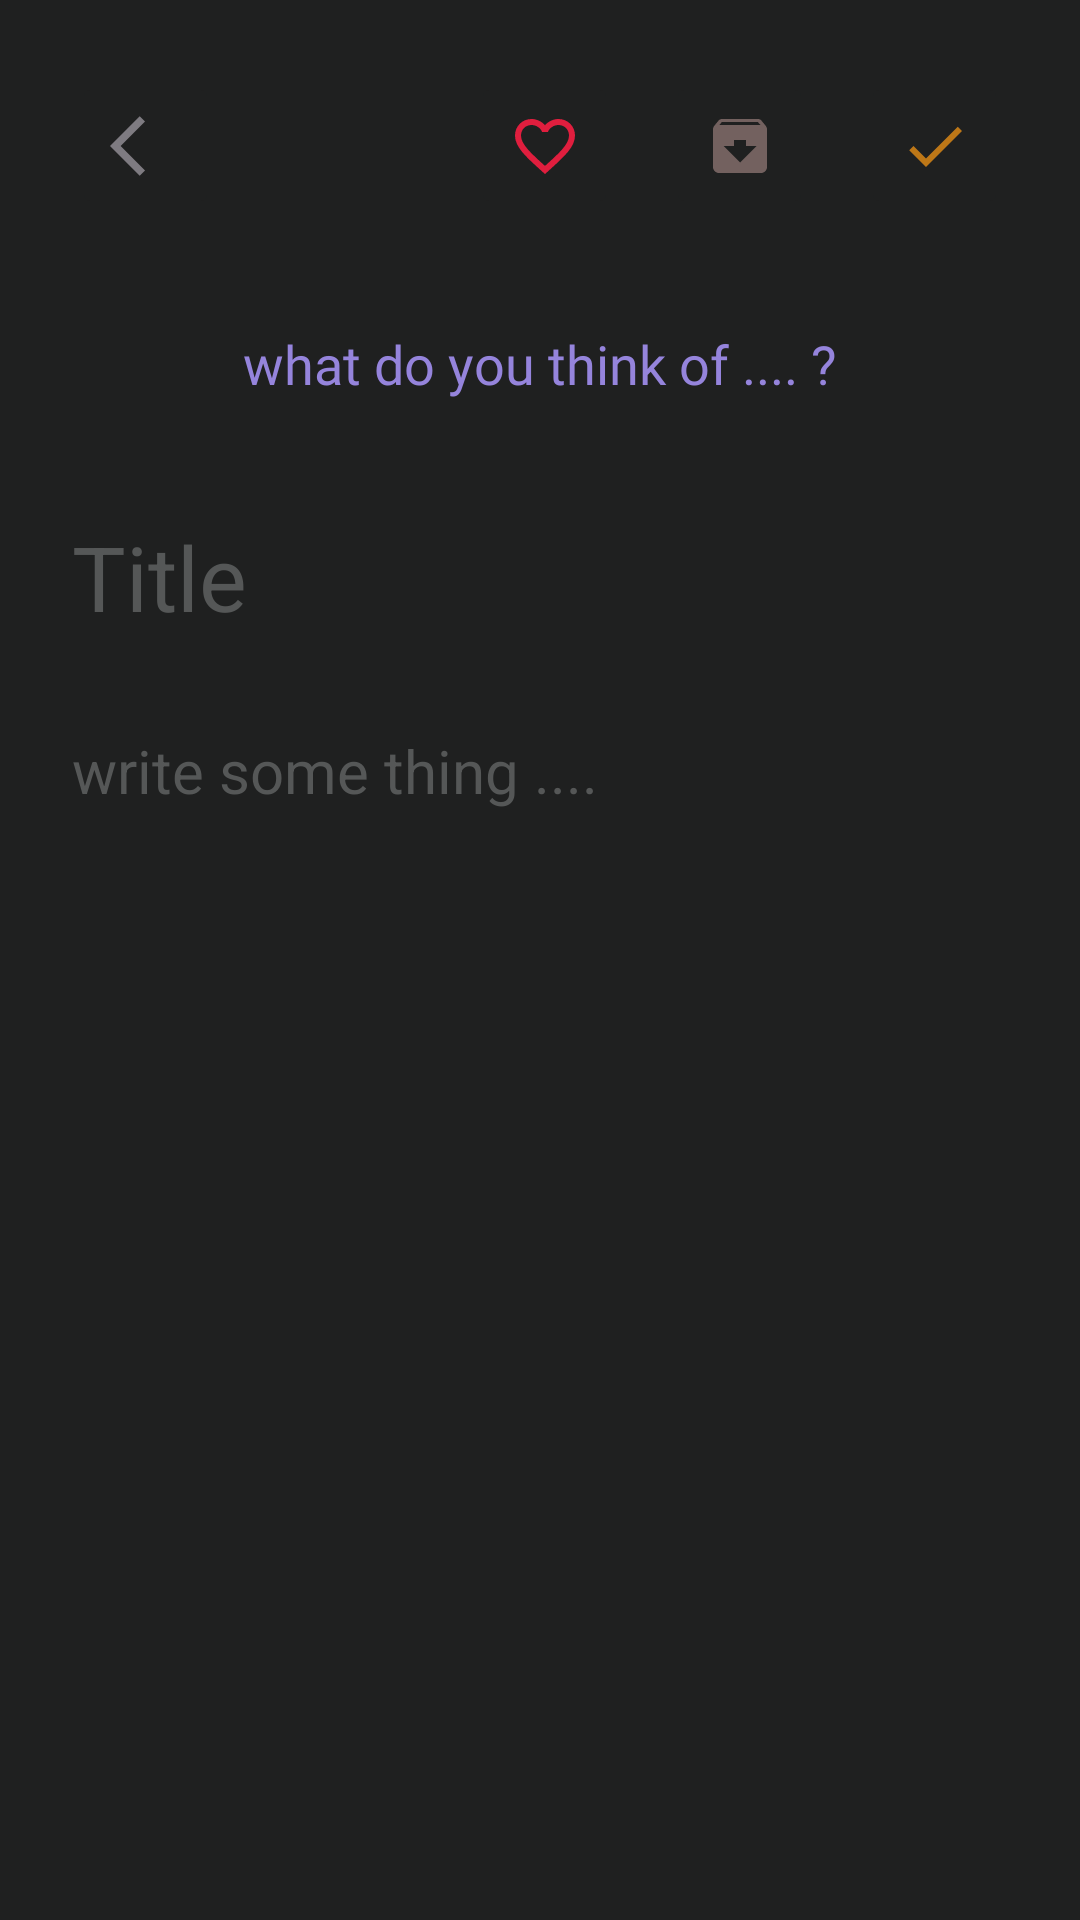

Icon bounding boxes for this 1080px x 1920px phone screenshot, format bbox=(x1, y1, x2, y2):
archive: bbox=(713, 119, 767, 173)
Back Button: bbox=(110, 116, 145, 176)
check: bbox=(909, 127, 962, 167)
Favorite Button: bbox=(515, 119, 575, 174)
